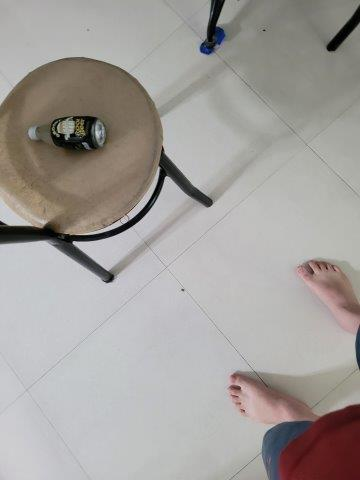botolkaca: (28, 115, 106, 151)
